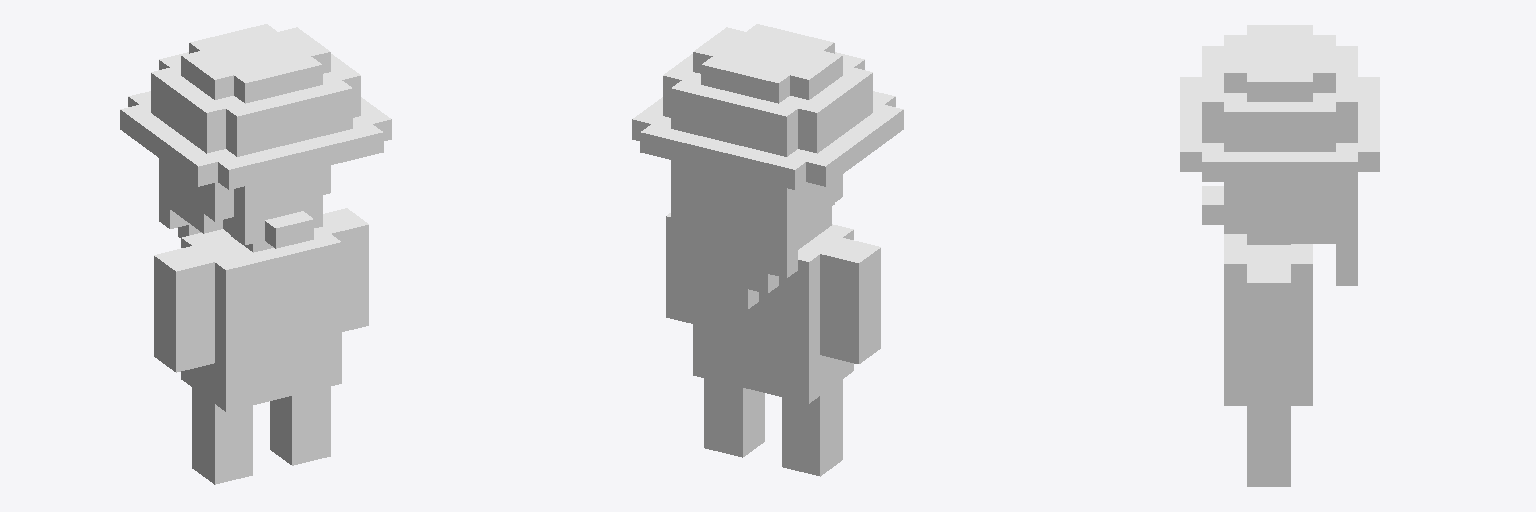
The model's file is Worker.obj.
3 renders of one model, left to right at view 1: azimuth 30°, elevation 25°; view 2: azimuth 150°, elevation 25°; view 3: azimuth 270°, elevation 25°, orthographic.
Parts seen in each view (by area): view 1: object 1; view 2: object 1; view 3: object 1.
Boxes of the visible parts, x1,y1,x2,y2 form: object 1: [120, 24, 391, 484]; object 1: [632, 24, 903, 476]; object 1: [1180, 25, 1379, 486].
Bounding box in the file's own units: 1 × 2 × 0.9.